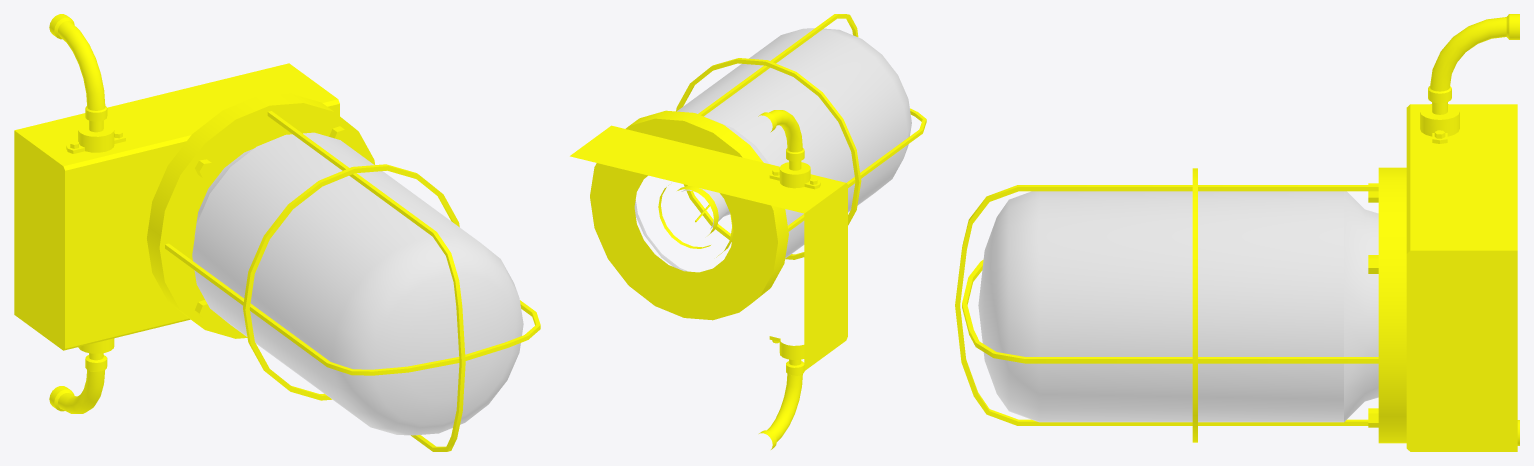
File: SM_CagedLamp.glb
3 renders of one model, left to right at view 1: azimuth 30°, elevation 25°; view 2: azimuth 150°, elevation 25°; view 3: azimuth 270°, elevation 25°, orthographic. The views are drawn at different scales.
Parts seen in each view (by area): view 1: SM_CagedLamp_LOD0; view 2: SM_CagedLamp_LOD0; view 3: SM_CagedLamp_LOD0.
Boxes of the visible parts, x1,y1,x2,y2 form: SM_CagedLamp_LOD0: (14,14,540,451); SM_CagedLamp_LOD0: (570,14,926,449); SM_CagedLamp_LOD0: (955,14,1519,451).
Size of the model in its own units: 0.2741 by 0.3413 by 0.4068.
3 materials, 1 textured.
